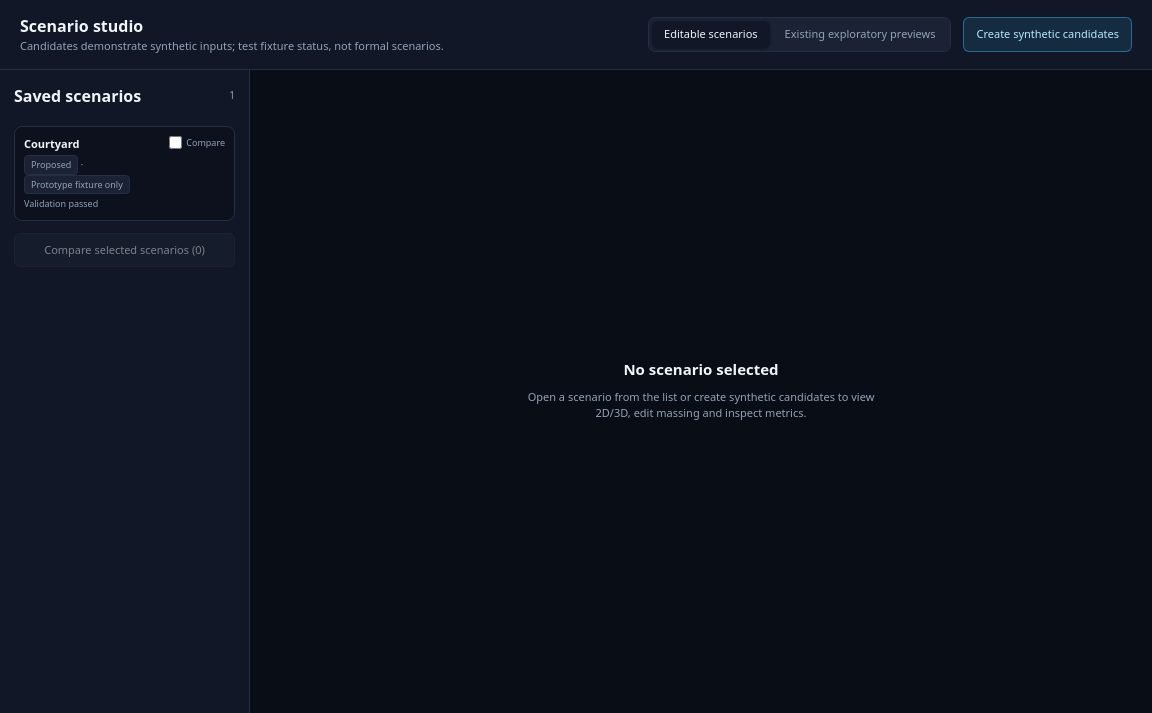
it: ScenarioStudio › sends a DRAFT massing edit with the active revision and renders confirmed dashboard values
The width and height of the screenshot is (1152, 713).
Click the button with aria-label "Inspect Courtyard" at (93, 173), box [24, 136, 161, 210]
(page scrolled)
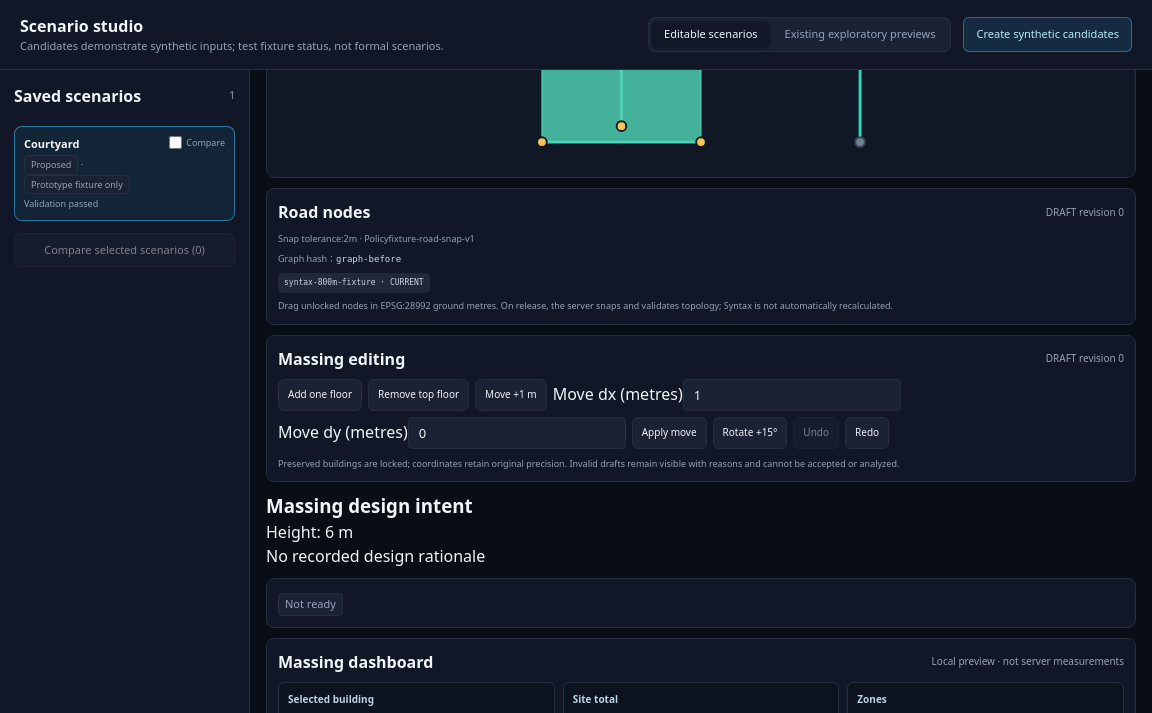
Click the button "Add one floor" at (320, 394), box [278, 378, 362, 410]
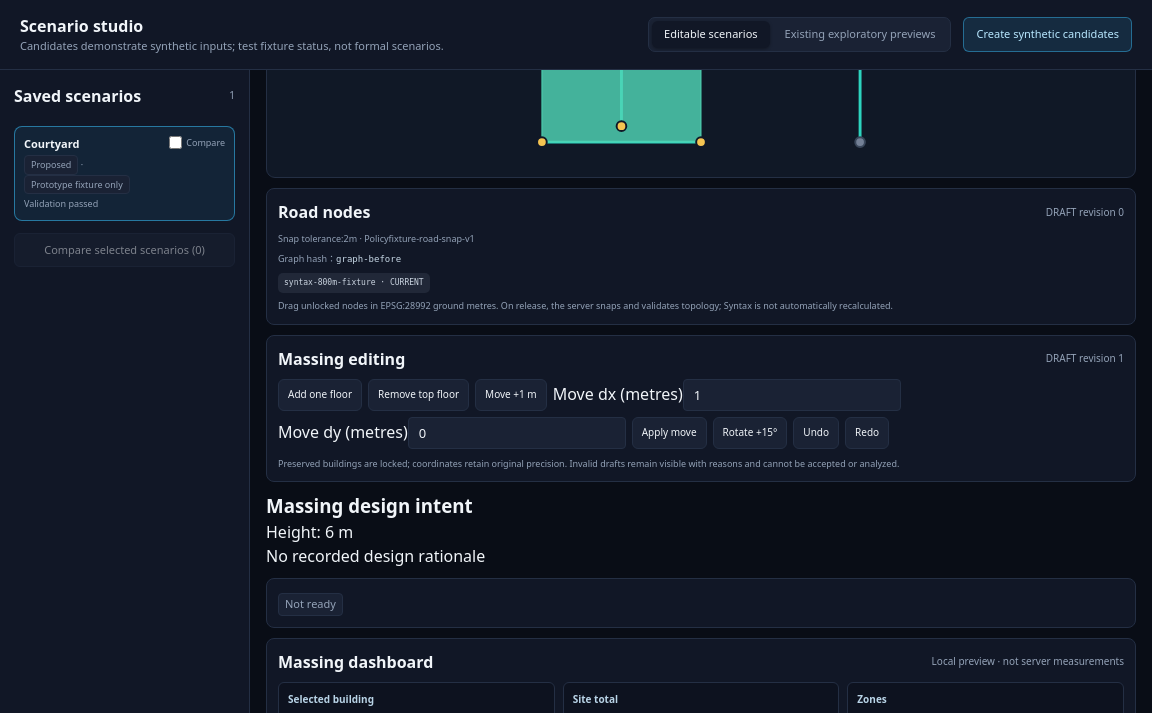
Expected: the text "DRAFT revision 1" is shown, [1046, 351, 1124, 366]
